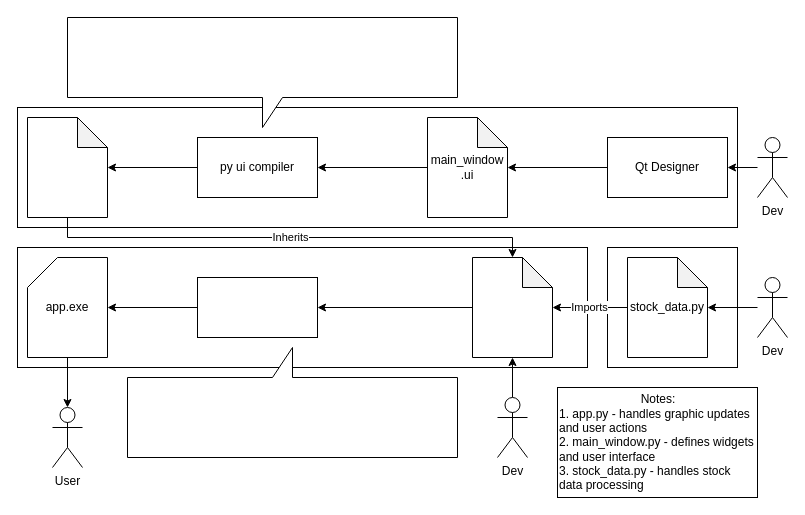
The diagram is 805 pixels wide and 515 high, and some of its shapes have lost their labels. Each missing label, with the centre of its shape:
app.py: (x=512, y=307)
main_window .py: (x=67, y=167)
py installer: (x=257, y=307)
pyinstaller .\src\<application.py> -F: (x=292, y=402)
pyuic5 -x -o <output_file.py> <input_file.ui>: (x=262, y=72)
